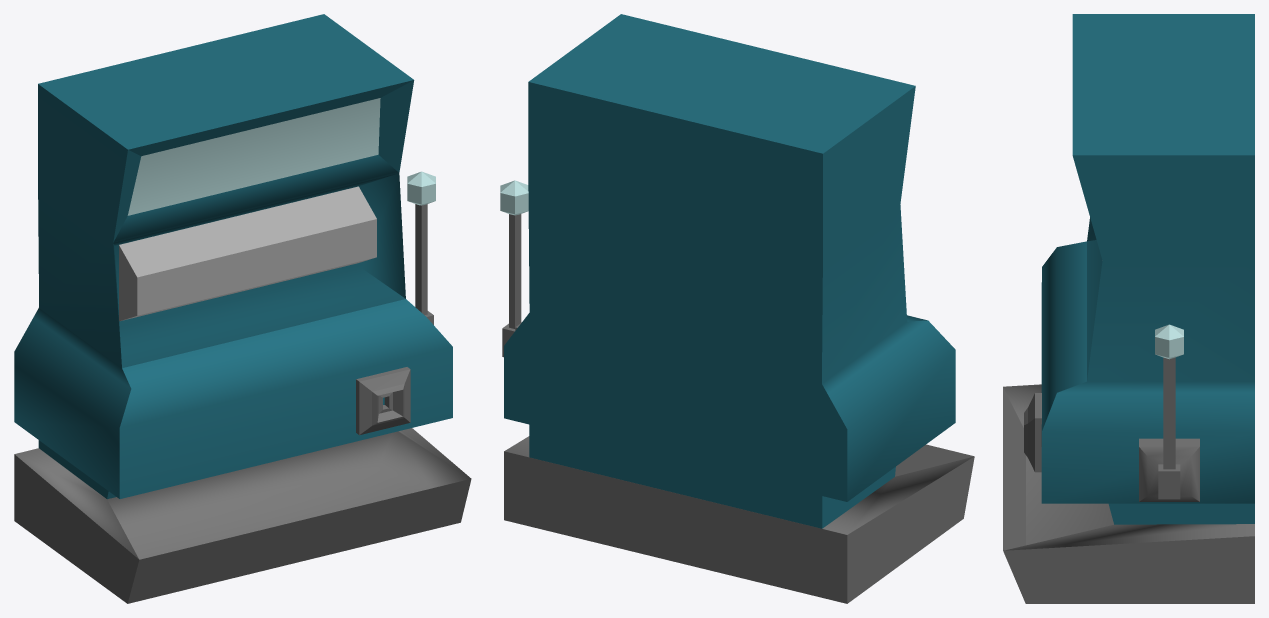
The model's file is SlotMachine.fbx.
The picture shows the model from 3 angles, left to right: view 1: azimuth 30°, elevation 25°; view 2: azimuth 150°, elevation 25°; view 3: azimuth 270°, elevation 25°; orthographic projection. The views are drawn at different scales.
Parts seen in each view (by area): view 1: MachineBody, WLeft, WRight, WMiddle, CoinSlot, Handle, LeverDiamond; view 2: MachineBody, Handle, LeverDiamond; view 3: MachineBody, LeverHolder, Handle, CoinSlot, LeverDiamond, LeverRotator.
Boxes of the visible parts, x1,y1,x2,y2 form: MachineBody: (14, 14, 471, 603); WLeft: (119, 225, 217, 321); WRight: (279, 186, 376, 281); WMiddle: (199, 206, 296, 301); CoinSlot: (356, 367, 410, 435); Handle: (415, 204, 427, 315); LeverDiamond: (407, 171, 435, 205); MachineBody: (504, 14, 974, 603); Handle: (509, 214, 521, 328); LeverDiamond: (500, 180, 528, 215); MachineBody: (1003, 14, 1254, 603); LeverHolder: (1139, 438, 1199, 501); Handle: (1163, 357, 1175, 469); CoinSlot: (1024, 393, 1041, 472); LeverDiamond: (1155, 324, 1183, 359); LeverRotator: (1158, 464, 1180, 499).
Bounding box in the file's own units: 1.15 × 1.25 × 0.6518.
